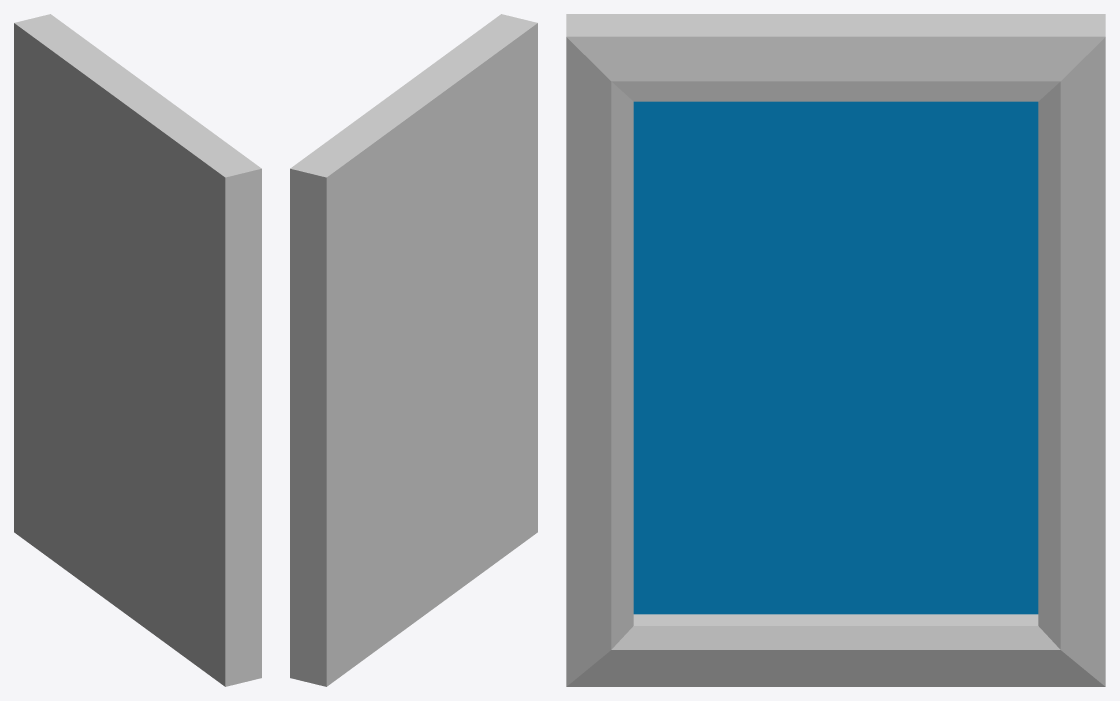
Rendered from Frame.fbx.
The picture shows the model from 3 angles, left to right: view 1: azimuth 30°, elevation 25°; view 2: azimuth 150°, elevation 25°; view 3: azimuth 270°, elevation 25°; orthographic projection. The views are drawn at different scales.
Parts seen in each view (by area): view 1: Cube; view 2: Cube; view 3: Cube.
Boxes of the visible parts, bbox=[...] form: Cube: bbox=[14, 14, 261, 686]; Cube: bbox=[290, 14, 537, 686]; Cube: bbox=[566, 14, 1105, 686].
Size of the model in its own units: 70 by 798 by 600.
